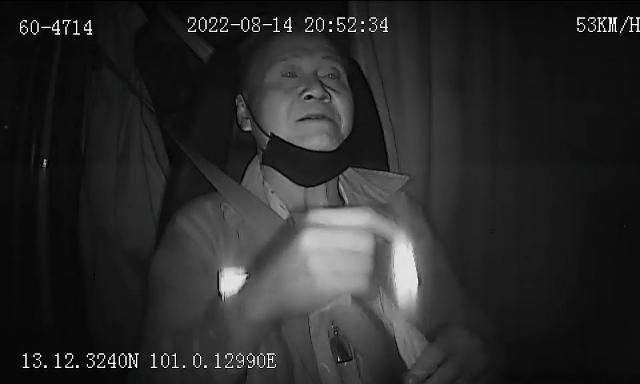SafeDriving: (272, 62, 306, 86)
Seatbelt: (178, 137, 394, 384)
